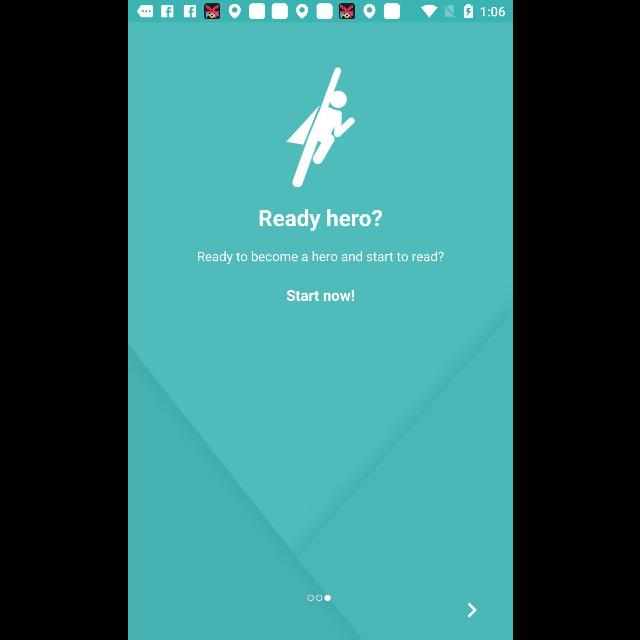icon: (466, 602, 476, 618)
image: (286, 67, 354, 187)
pageindicator: (307, 594, 331, 602)
text: (197, 252, 443, 264), (258, 209, 382, 231), (286, 290, 354, 302)
uppertaskbar: (128, 1, 512, 23)
